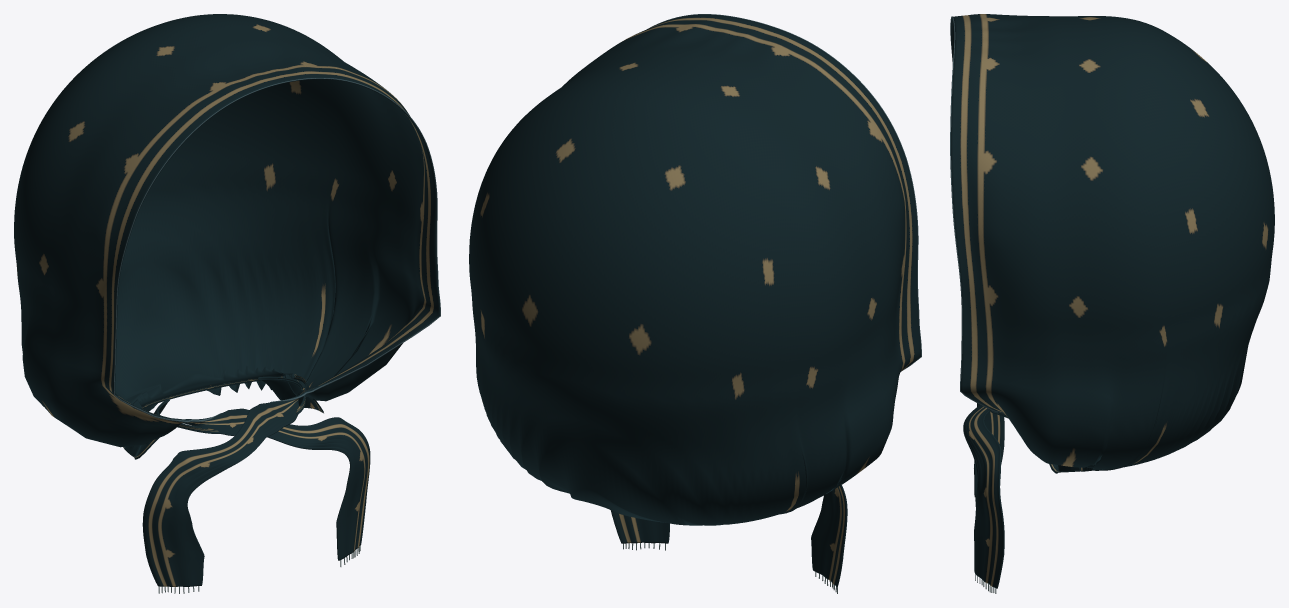
File: Masculine-Masculine-middle-part-buttonup-pashmina250-headgear-13372ad4.glb
The picture shows the model from 3 angles, left to right: view 1: azimuth 30°, elevation 25°; view 2: azimuth 150°, elevation 25°; view 3: azimuth 270°, elevation 25°; orthographic projection. The views are drawn at different scales.
Visible parts, largest first — view 1: 226 headgear / Headwear / continuous woven pashmina239, 226 headgear / Headwear / face edge239; view 2: 226 headgear / Headwear / continuous woven pashmina239, 226 headgear / Headwear / face edge239; view 3: 226 headgear / Headwear / continuous woven pashmina239, 226 headgear / Headwear / face edge239.
Boxes of the visible parts, x1=… form: 226 headgear / Headwear / continuous woven pashmina239: x1=14, y1=14, x2=439, y2=586; 226 headgear / Headwear / face edge239: x1=114, y1=78, x2=440, y2=422; 226 headgear / Headwear / continuous woven pashmina239: x1=469, y1=14, x2=920, y2=586; 226 headgear / Headwear / face edge239: x1=648, y1=14, x2=921, y2=371; 226 headgear / Headwear / continuous woven pashmina239: x1=950, y1=14, x2=1274, y2=588; 226 headgear / Headwear / face edge239: x1=950, y1=16, x2=1004, y2=413.
Bounding box in the file's own units: 0.9063 × 1.23 × 0.7056.
3 materials, 1 textured.
